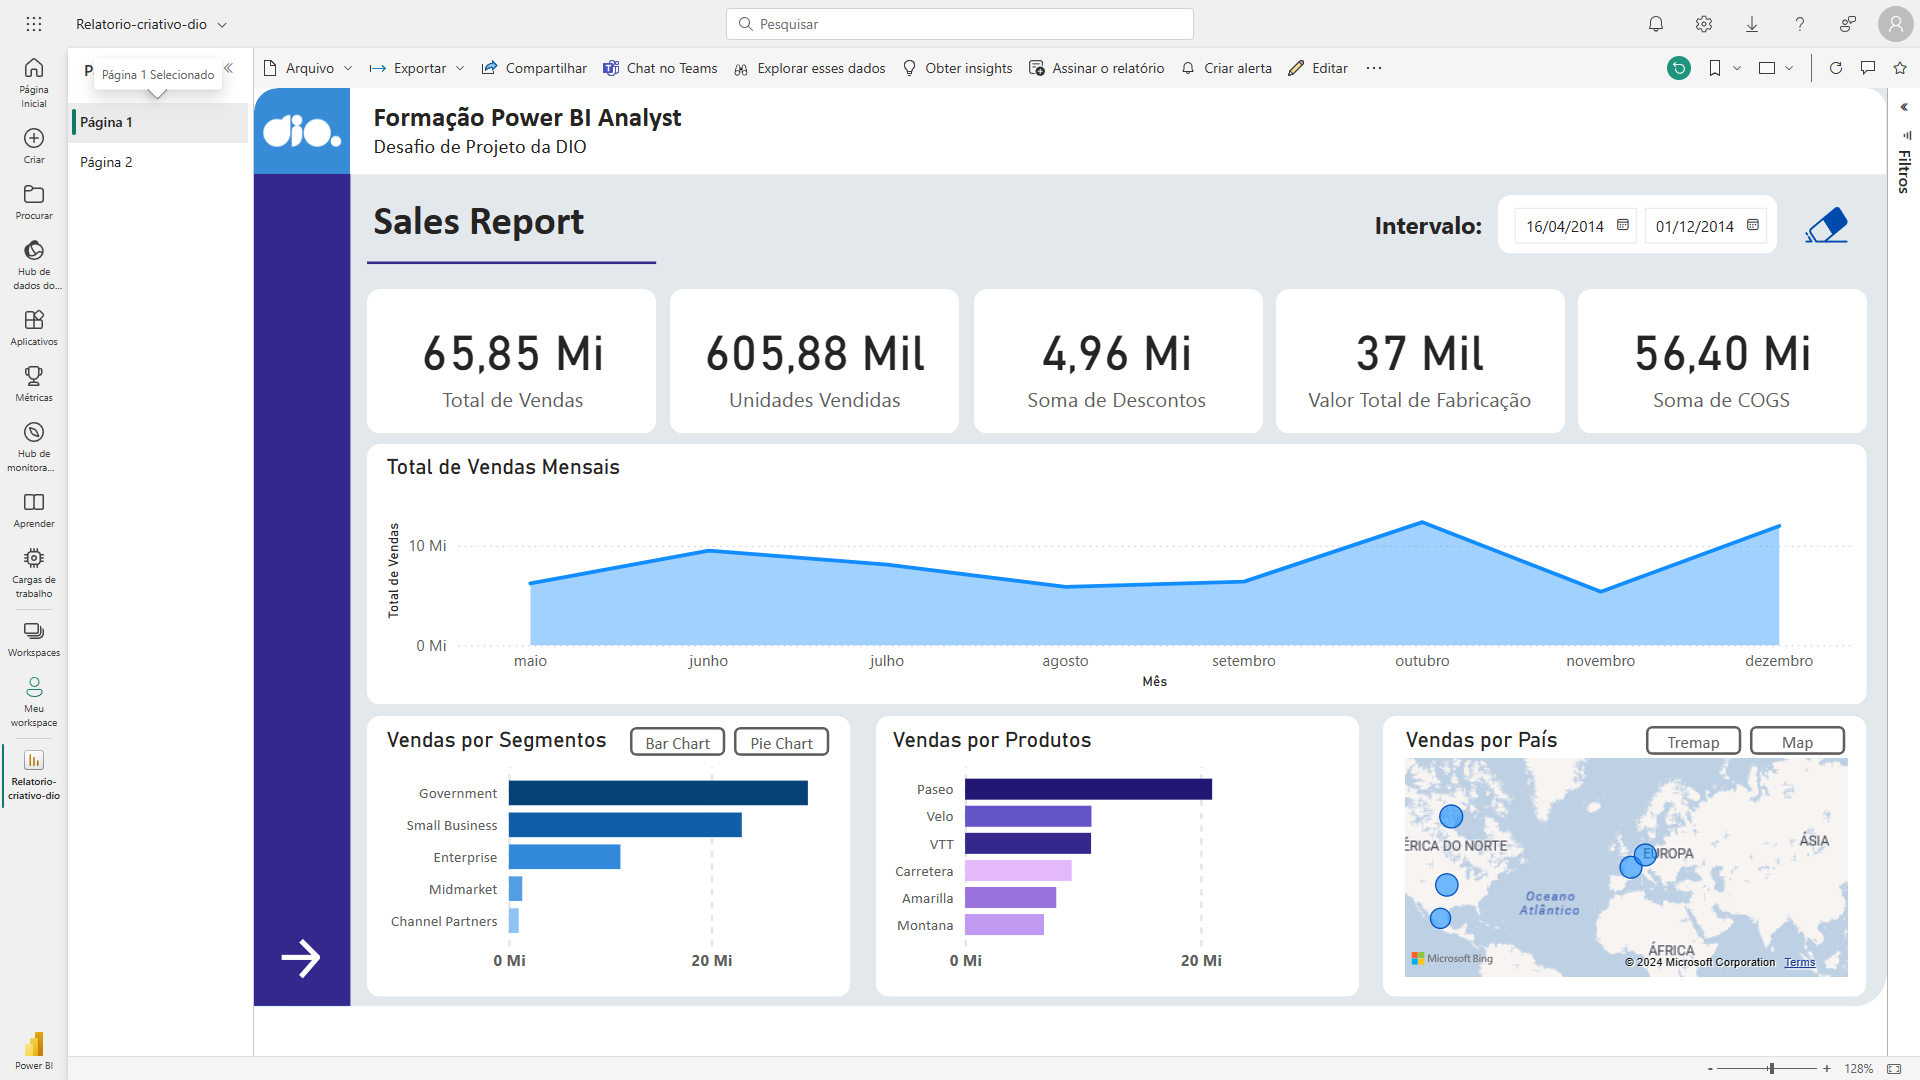

What the dashboard file says about the page in this screenshot:
{"tool":"powerbi","page":{"name":"Página 1","canvas":[1280,720],"ordinal":0},"visuals":[{"type":"shape","box":[0,0,1280,720],"z":0},{"type":"image","title":"clean","box":[1210.9,84.6,42.8,45.7],"z":0,"group":"g3"},{"type":"shape","box":[88.9,157.8,226.7,113.3],"z":0,"group":"g1"},{"type":"shape","box":[487.8,492.2,378.9,220],"z":0,"group":"g2"},{"type":"donutChart","title":"Vendas por Segmentos","fields":{"Category":["financials.Segment"],"Y":["Sum(financials. Sales)"]},"box":[99.2,501,361.5,201.4],"z":0,"group":"g5"},{"type":"map","title":"Vendas por País","fields":{"Category":["financials.Country"],"Size":["Sum(financials. Sales)"]},"box":[897.8,501.1,356.7,201.1],"z":0,"group":"g4"},{"type":"shape","box":[975,84,219,46],"z":500,"group":"g3"},{"type":"shape","box":[0,0,75.6,720],"z":1000},{"type":"slicer","fields":{"Values":["financials.Date"]},"box":[975.4,84,218,43],"z":1000,"group":"g3"},{"type":"shape","box":[326.7,157.8,226.7,113.3],"z":1000,"group":"g1"},{"type":"shape","box":[88.9,492.2,378.9,220],"z":1000,"group":"g2"},{"type":"clusteredBarChart","title":"Vendas por Segmentos","fields":{"Y":["Sum(financials. Sales)"],"Category":["financials.Segment"]},"box":[98.9,501.1,361.1,201.1],"z":1000,"group":"g5"},{"type":"image","box":[2.2,0,71.1,67.8],"z":2000},{"type":"textbox","title":"intervalo","box":[873.4,89.5,102.1,37],"z":2000,"group":"g3"},{"type":"shape","box":[564.5,157.8,226.7,113.3],"z":2000,"group":"g1"},{"type":"shape","box":[885.6,492.2,378.9,220],"z":2000,"group":"g2"},{"type":"actionButton","title":"Botão - tremap","box":[1091.6,500.2,74.7,22.6],"z":2000,"group":"g4"},{"type":"actionButton","title":"Botão - bar","box":[294.7,501,74.7,22.6],"z":2000,"group":"g5"},{"type":"shape","box":[0,67.8,75.6,652.2],"z":3000},{"type":"actionButton","box":[1211.2,84.5,46.2,46.2],"z":3000,"group":"g3"},{"type":"shape","box":[801.1,157.8,226.7,113.3],"z":3000,"group":"g1"},{"type":"actionButton","title":"Botão - map","box":[1173.1,500.2,74.7,22.6],"z":3000,"group":"g4"},{"type":"actionButton","title":"Botão - pie","box":[376.3,501,74.7,22.6],"z":3000,"group":"g5"},{"type":"shape","box":[75.6,0,1204.4,67.8],"z":4000},{"type":"shape","box":[1037.8,157.8,226.7,113.3],"z":4000,"group":"g1"},{"type":"textbox","box":[88.9,4.4,300,57.8],"z":5000},{"type":"card","fields":{"Values":["Sum(financials.COGS)"]},"box":[1047.8,157.8,206.7,113.3],"z":5000,"group":"g1"},{"type":"group","id":"g1","title":"Cartoes","box":[88.9,157.8,1175.6,113.3],"z":6000},{"type":"card","fields":{"Values":["Sum(financials.Manufacturing Price)"]},"box":[811.1,157.8,206.7,113.3],"z":6000,"group":"g1"},{"type":"shape","box":[88.9,131.1,226.7,12.2],"z":7000},{"type":"card","fields":{"Values":["Sum(financials.Units Sold)"]},"box":[336.7,157.8,206.7,113.3],"z":7000,"group":"g1"},{"type":"textbox","box":[88.9,78.9,300,52.2],"z":8000},{"type":"card","fields":{"Values":["Sum(financials.Discounts)"]},"box":[573.3,157.8,206.7,113.3],"z":8000,"group":"g1"},{"type":"card","fields":{"Values":["Sum(financials. Sales)"]},"box":[100,157.8,206.7,113.3],"z":9000,"group":"g1"},{"type":"shape","box":[88.9,278.9,1175.6,204.4],"z":9000},{"type":"group","id":"g2","title":"Grupo 2","box":[88.9,492.2,1175.6,220],"z":10000},{"type":"areaChart","title":"Total de Vendas Mensais","fields":{"Category":["financials.Date.Variation.Hierarquia de datas.Mês"],"Y":["Sum(financials. Sales)"]},"box":[98.9,286.7,1157.8,188.9],"z":11000},{"type":"clusteredBarChart","title":"Vendas por Produtos","fields":{"Y":["Sum(financials. Sales)"],"Category":["financials.Product"]},"box":[495.6,501.1,361.1,201.1],"z":12000},{"type":"group","id":"g3","title":"Filtro-intervalo","box":[873.4,84,384,46.7],"z":13000},{"type":"group","id":"g4","title":"Sales-País","box":[897.8,500.2,356.7,202.2],"z":14000},{"type":"group","id":"g5","title":"Sales-Segmento","box":[98.9,501,361.8,201.4],"z":15000},{"type":"actionButton","title":"Botão - seguinte","box":[15.7,662.1,42.2,40.3],"z":16000}]}

Visuals, with their boxes on the page's 1280x720 design canvas (x1, y1, x2, y2). These are canvas units, not pixel positions in the 1920x1080 screenshot, which may show the page scaled, cropped or inside an application window:
shape: locate(0, 0, 1280, 720)
"clean" image: locate(1211, 85, 1254, 130)
shape: locate(89, 158, 316, 271)
shape: locate(488, 492, 867, 712)
"Vendas por Segmentos" donutChart: locate(99, 501, 461, 702)
"Vendas por País" map: locate(898, 501, 1254, 702)
shape: locate(975, 84, 1194, 130)
shape: locate(0, 0, 76, 720)
slicer - financials.Date: locate(975, 84, 1193, 127)
shape: locate(327, 158, 553, 271)
shape: locate(89, 492, 468, 712)
"Vendas por Segmentos" clusteredBarChart: locate(99, 501, 460, 702)
image: locate(2, 0, 73, 68)
"intervalo" textbox: locate(873, 90, 976, 126)
shape: locate(564, 158, 791, 271)
shape: locate(886, 492, 1264, 712)
"Botão - tremap" actionButton: locate(1092, 500, 1166, 523)
"Botão - bar" actionButton: locate(295, 501, 369, 524)
shape: locate(0, 68, 76, 720)
actionButton: locate(1211, 84, 1257, 131)
shape: locate(801, 158, 1028, 271)
"Botão - map" actionButton: locate(1173, 500, 1248, 523)
"Botão - pie" actionButton: locate(376, 501, 451, 524)
shape: locate(76, 0, 1280, 68)
shape: locate(1038, 158, 1264, 271)
textbox: locate(89, 4, 389, 62)
card - Sum(financials.COGS): locate(1048, 158, 1254, 271)
"Cartoes" group: locate(89, 158, 1264, 271)
card - Sum(financials.Manufacturing Price): locate(811, 158, 1018, 271)
shape: locate(89, 131, 316, 143)
card - Sum(financials.Units Sold): locate(337, 158, 543, 271)
textbox: locate(89, 79, 389, 131)
card - Sum(financials.Discounts): locate(573, 158, 780, 271)
card - Sum(financials. Sales): locate(100, 158, 307, 271)
shape: locate(89, 279, 1264, 483)
"Grupo 2" group: locate(89, 492, 1264, 712)
"Total de Vendas Mensais" areaChart: locate(99, 287, 1257, 476)
"Vendas por Produtos" clusteredBarChart: locate(496, 501, 857, 702)
"Filtro-intervalo" group: locate(873, 84, 1257, 131)
"Sales-País" group: locate(898, 500, 1254, 702)
"Sales-Segmento" group: locate(99, 501, 461, 702)
"Botão - seguinte" actionButton: locate(16, 662, 58, 702)
